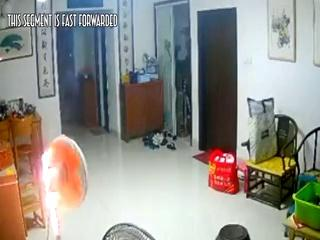Fire: (38, 148, 66, 216)
